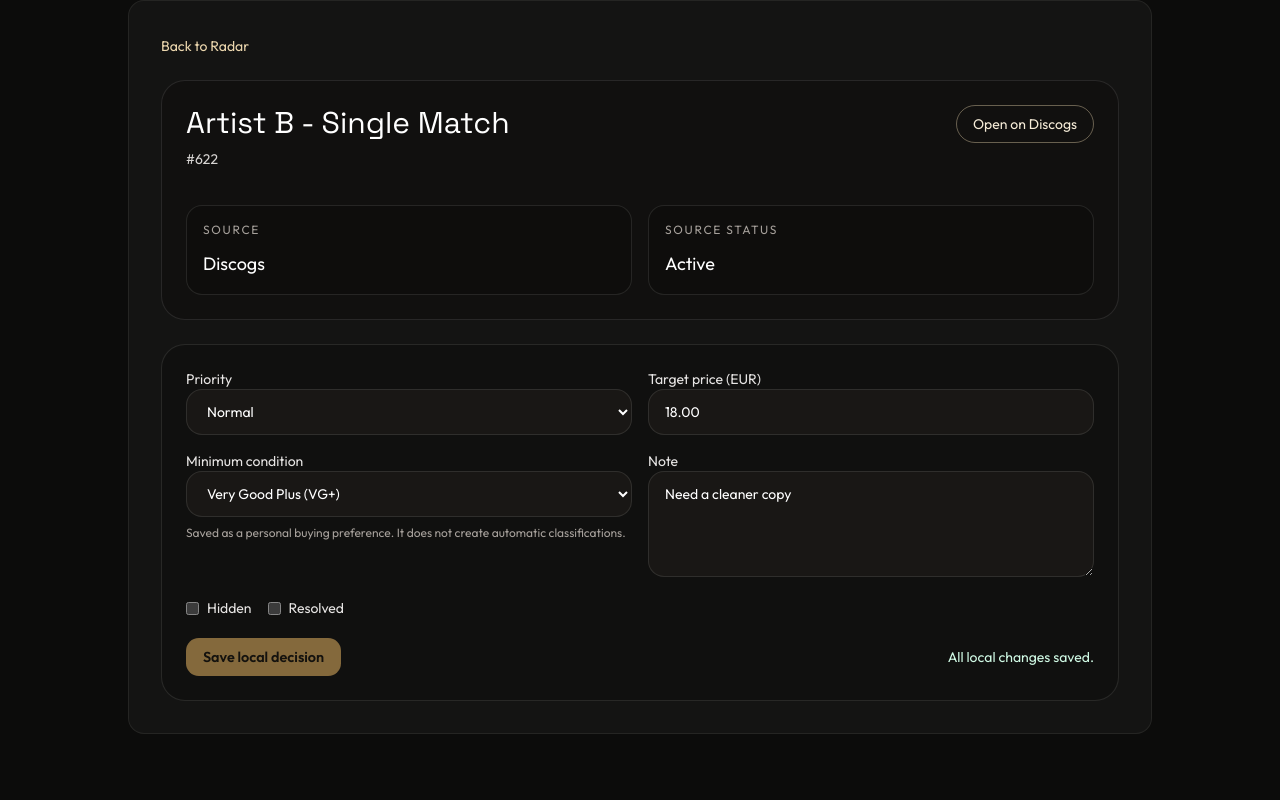
Test: Radar release detail page › marks local decision edits as unsaved and returns to a saved state after an explicit save
This screenshot has width=1280, height=800.
Expected: the button "Save local decision" is disabled, [186, 638, 341, 676]
Select "High" in the dropdown named "radar-priority-22" at (409, 412), box [186, 389, 632, 435]
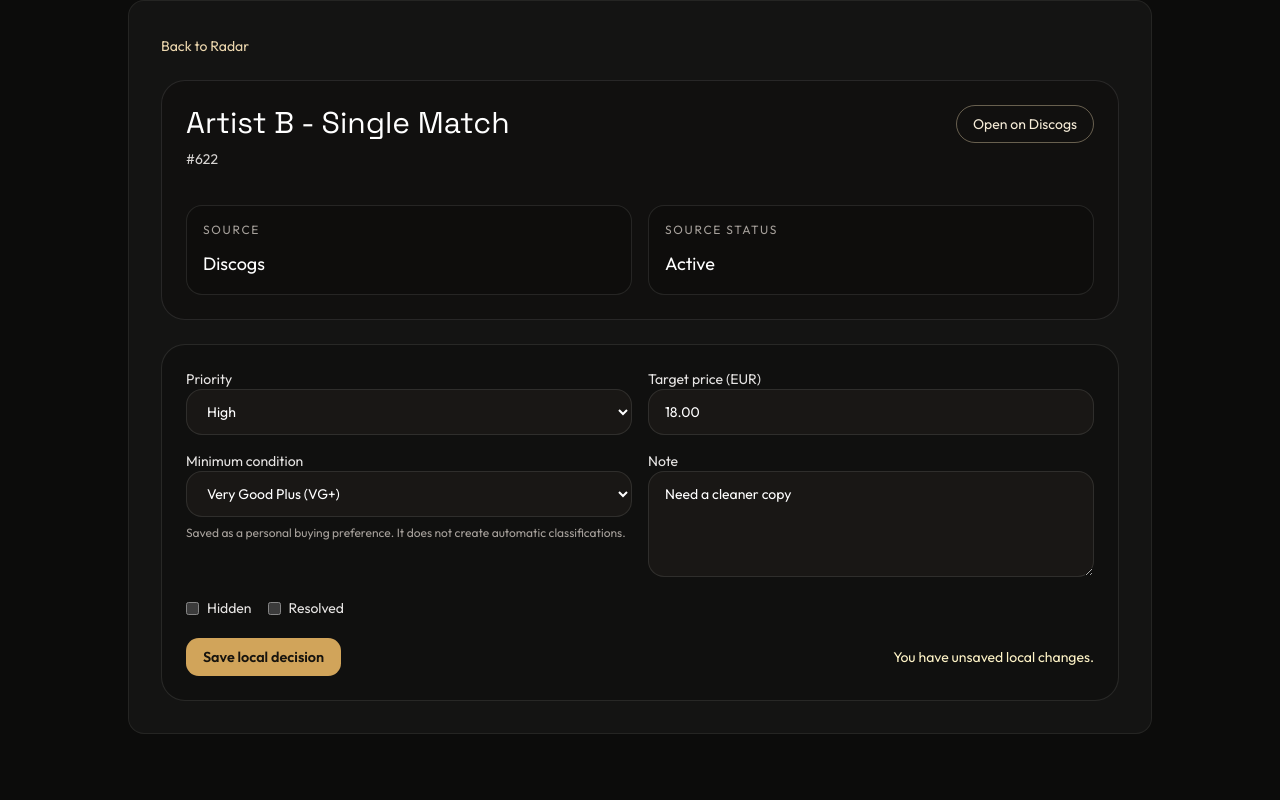
Replace the text in the number field named "radar-target-price-22" with "20.50" at (871, 412), box [648, 389, 1094, 435]
Select "No preference" in the dropdown named "radar-minimum-condition-22" at (409, 494), box [186, 471, 632, 517]
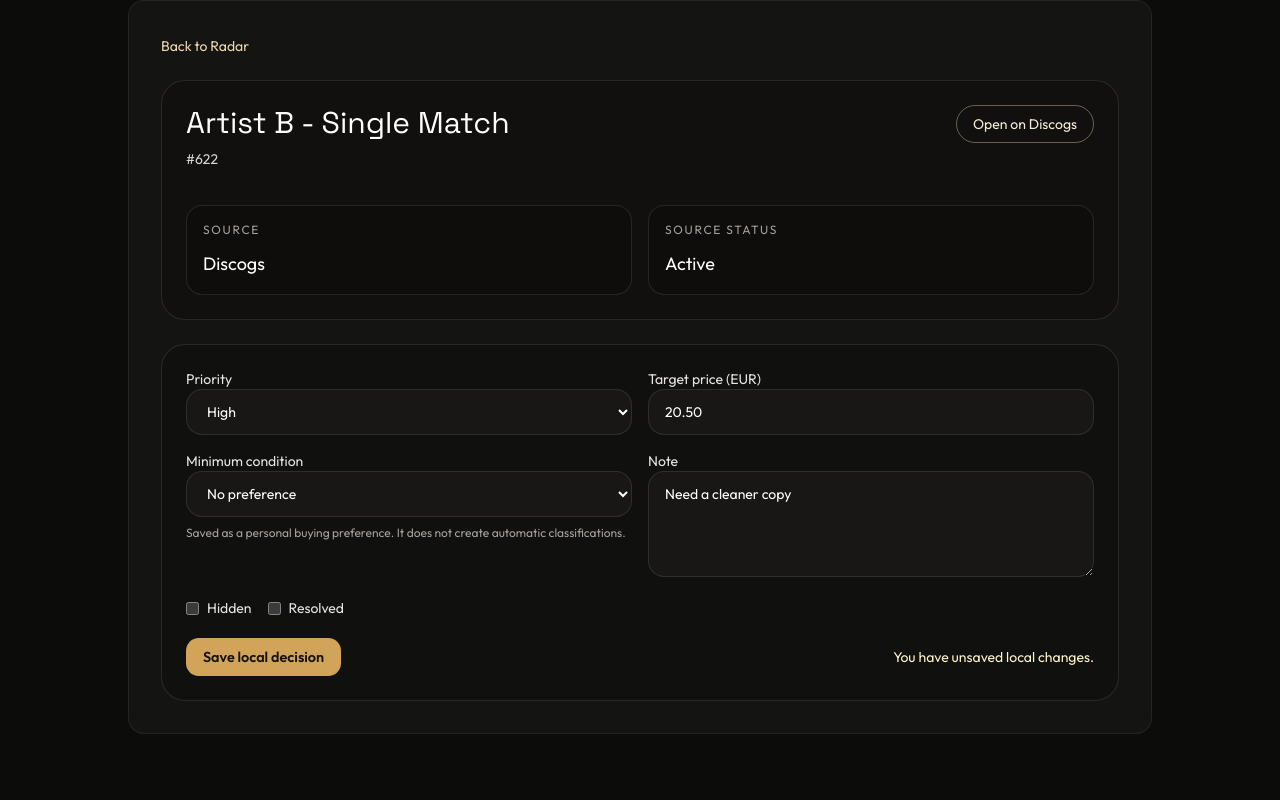
Replace the text in the text box named "radar-note-22" with "Buy after payroll" at (871, 524), box [648, 471, 1094, 577]
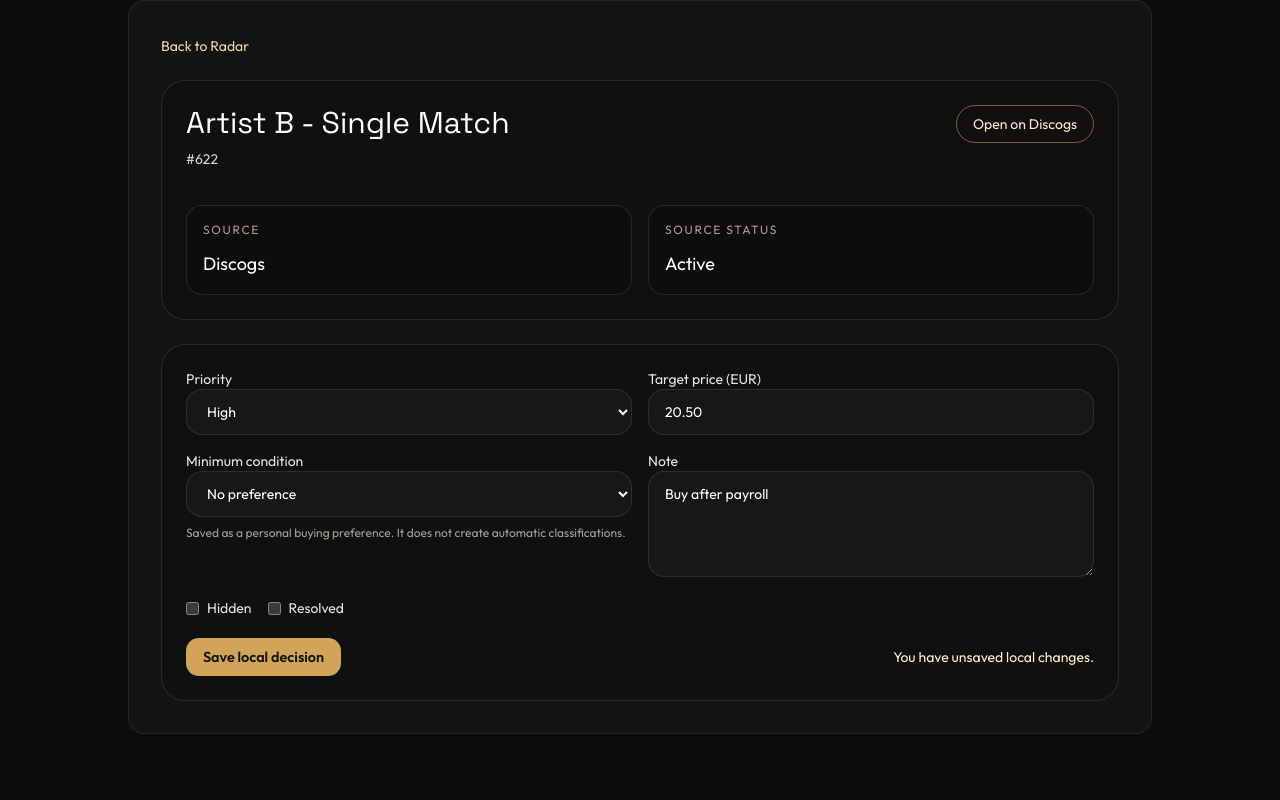
Click the checkbox named "radar-hidden-22" at (192, 608), box [186, 602, 199, 614]
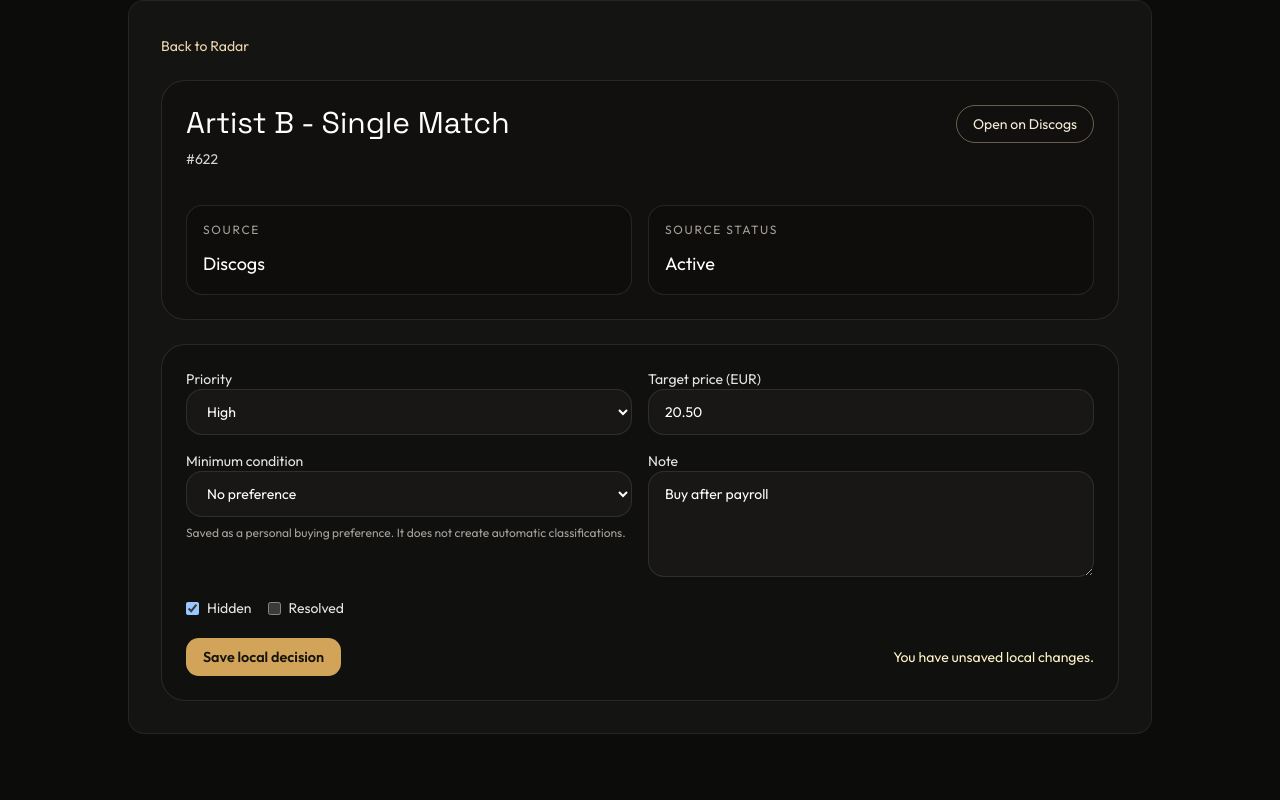
Click the checkbox named "radar-resolved-22" at (274, 608), box [268, 602, 280, 614]
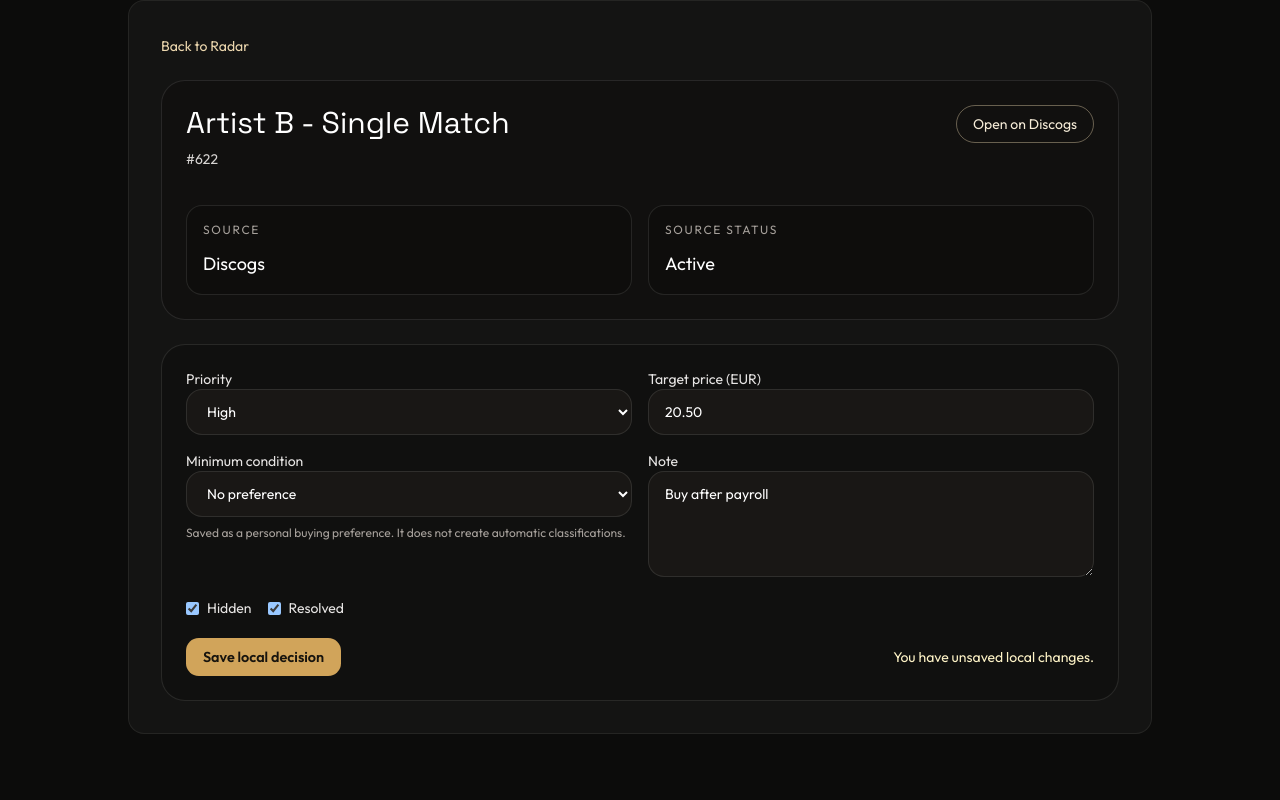
Now the text "You have unsaved local changes." is shown, box [893, 647, 1094, 667]
Now the button "Save local decision" is enabled
Click the button "Save local decision" at (264, 657), box [186, 638, 341, 676]
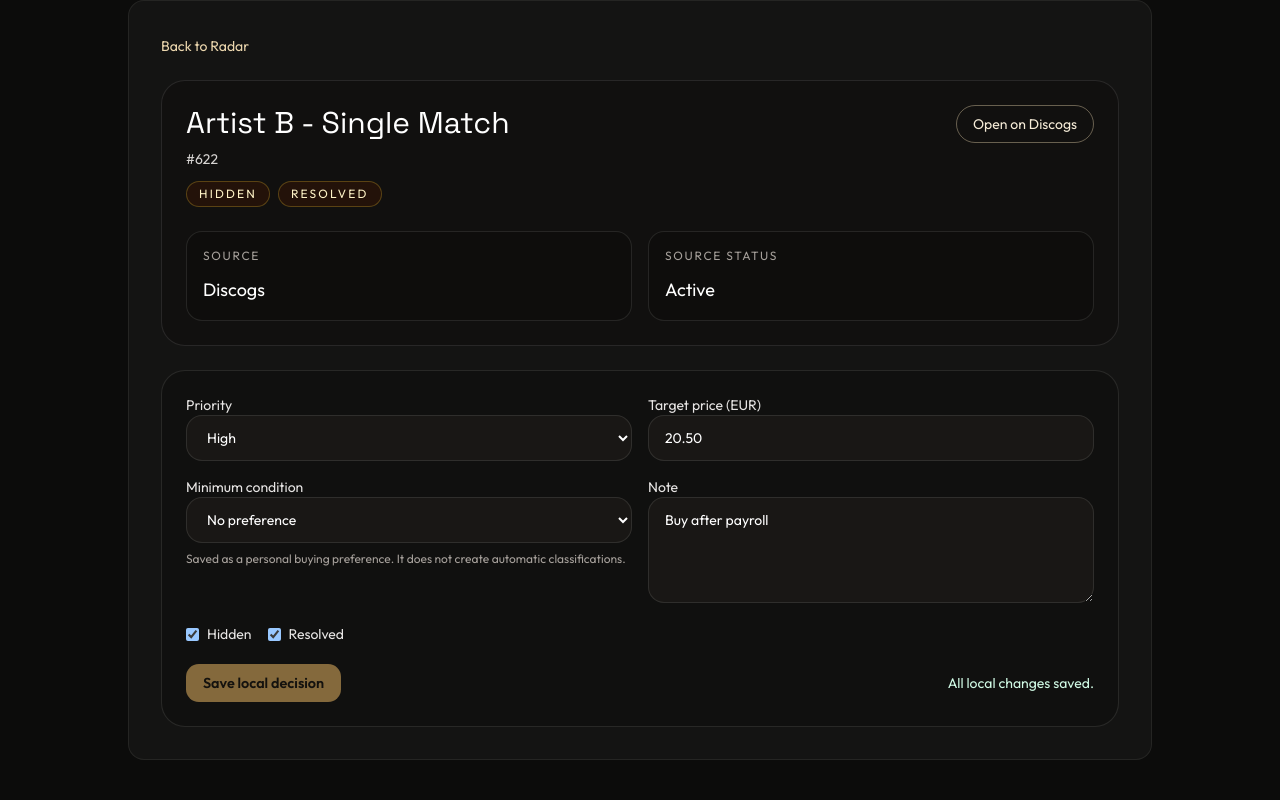
Now the checkbox named "radar-hidden-22" is checked, box [186, 628, 199, 640]
Now the text "All local changes saved." is shown, box [948, 673, 1094, 693]
Now the button "Save local decision" is disabled, box [186, 664, 341, 702]
